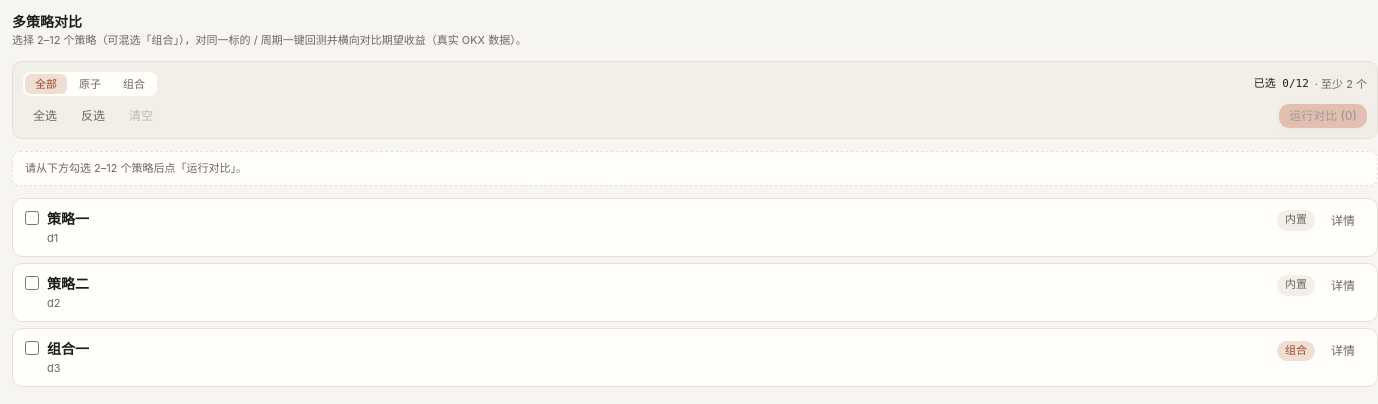
Test: CompareView › filters the list to combos only
The image size is (1378, 404).
Expected: the text "策略一" is shown, [47,208,89,228]
Click the button "组合" at (134, 84), box [113,74,155,94]
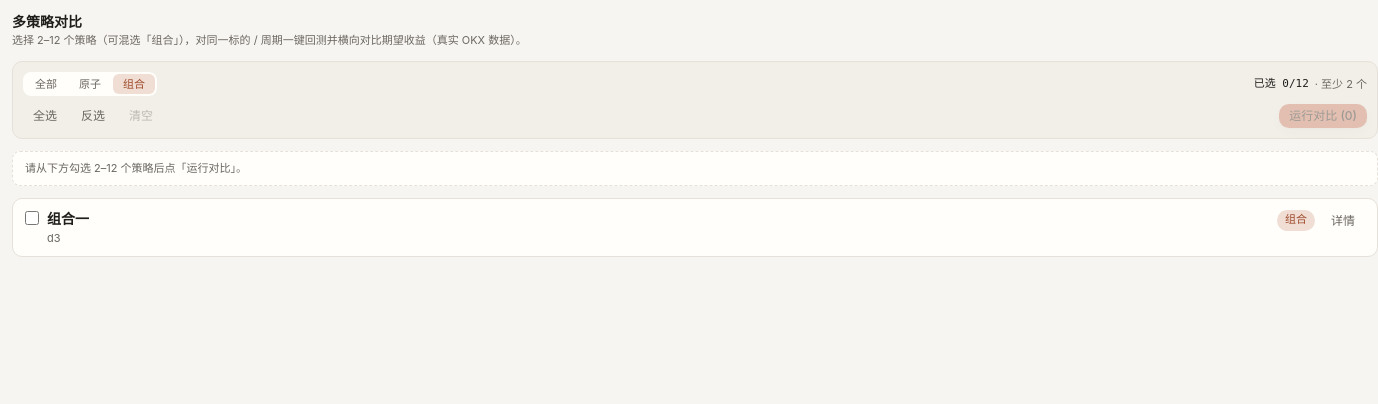
Expected: the text "组合一" is shown, [47,208,89,228]
Now the text "策略一" is gone
